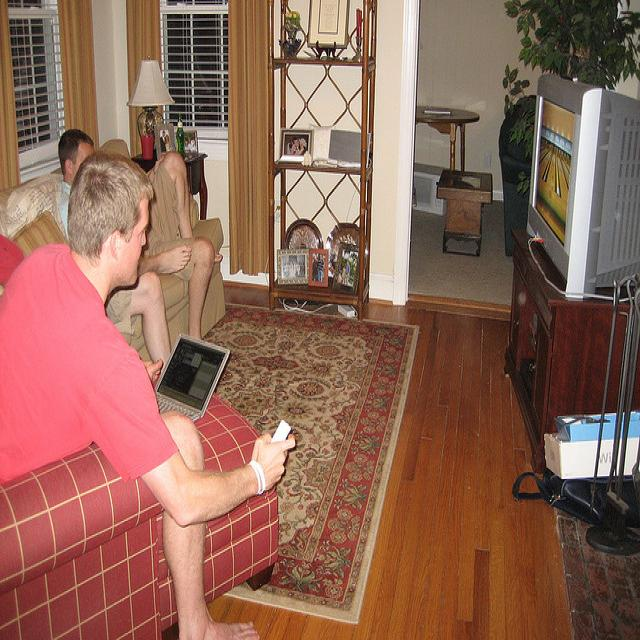chair: (1, 450, 158, 628)
dining table: (416, 104, 479, 120)
